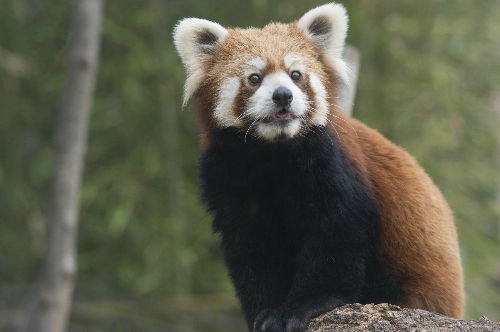redPanda: (168, 9, 456, 310)
